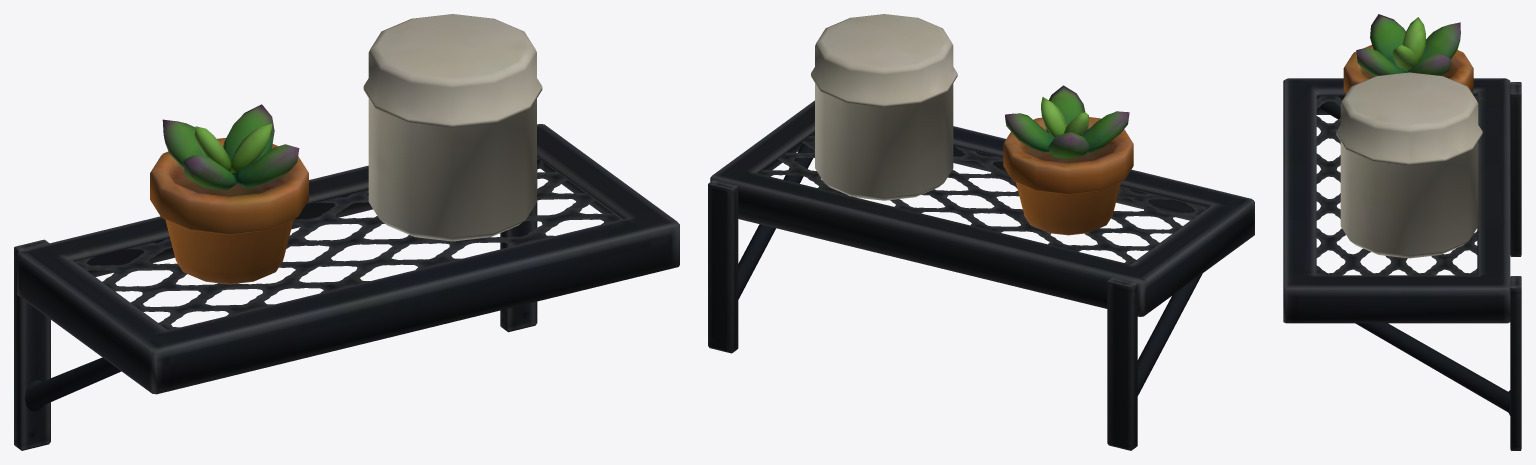
3 renders of one model, left to right at view 1: azimuth 30°, elevation 25°; view 2: azimuth 150°, elevation 25°; view 3: azimuth 270°, elevation 25°, orthographic. The views are drawn at different scales.
Bounding box in the file's own units: 9 × 5.87 × 4.3.
Materials: 1 (1 with a texture image).
